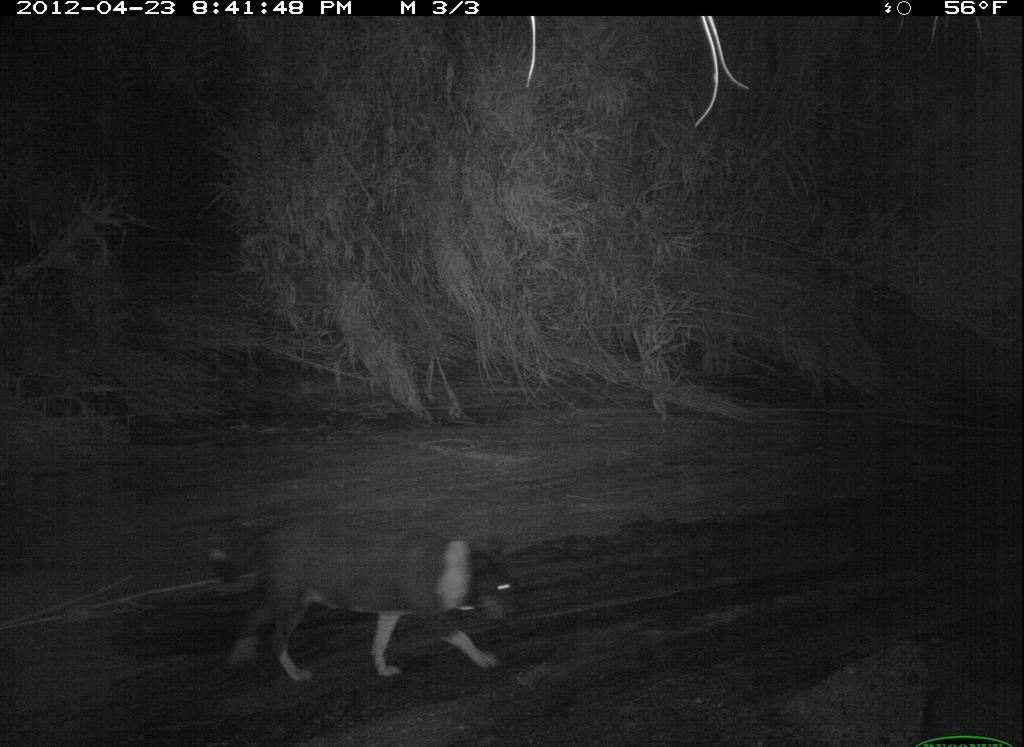dog: (196, 498, 524, 699)
